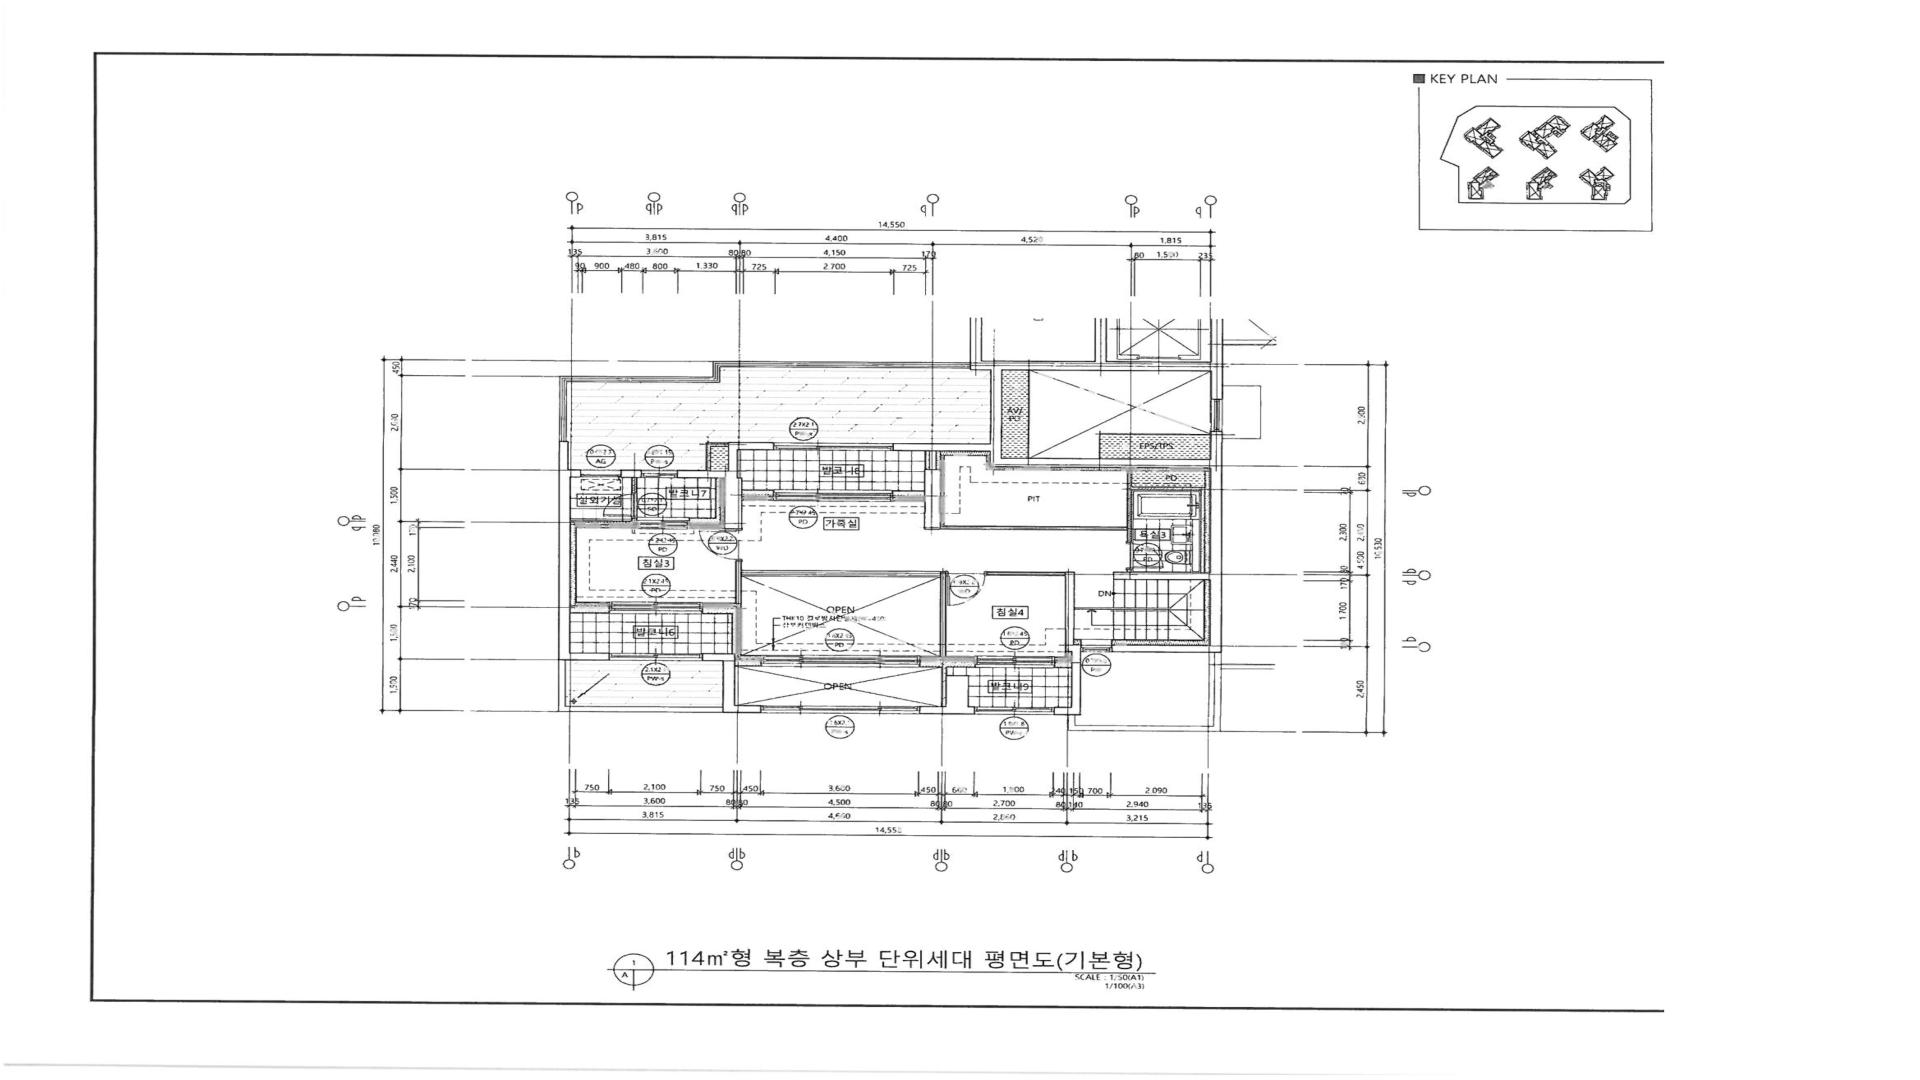door: (945, 571, 988, 607), (699, 529, 741, 560), (1127, 542, 1163, 570), (603, 493, 637, 518)
wall: (894, 318, 1224, 653), (559, 361, 971, 442), (736, 560, 945, 657), (893, 469, 1127, 530), (558, 442, 609, 661), (678, 443, 774, 529), (1127, 471, 1205, 572), (988, 571, 1075, 645), (702, 607, 761, 666), (1098, 434, 1211, 459), (920, 661, 975, 707), (919, 675, 975, 715), (723, 661, 761, 713), (1055, 645, 1081, 715), (690, 477, 720, 524), (705, 443, 728, 469), (571, 518, 637, 525), (570, 605, 609, 613), (741, 489, 773, 497), (1027, 371, 1030, 458), (924, 451, 936, 469), (621, 469, 641, 477), (630, 477, 637, 493)
window: (761, 655, 920, 667), (761, 705, 920, 715), (773, 489, 893, 501), (609, 601, 703, 615), (975, 655, 1055, 667), (774, 443, 894, 451), (609, 653, 702, 661), (975, 707, 1055, 715), (637, 517, 690, 529), (1211, 398, 1224, 431), (1081, 640, 1112, 653), (641, 469, 678, 477), (580, 471, 621, 477)
